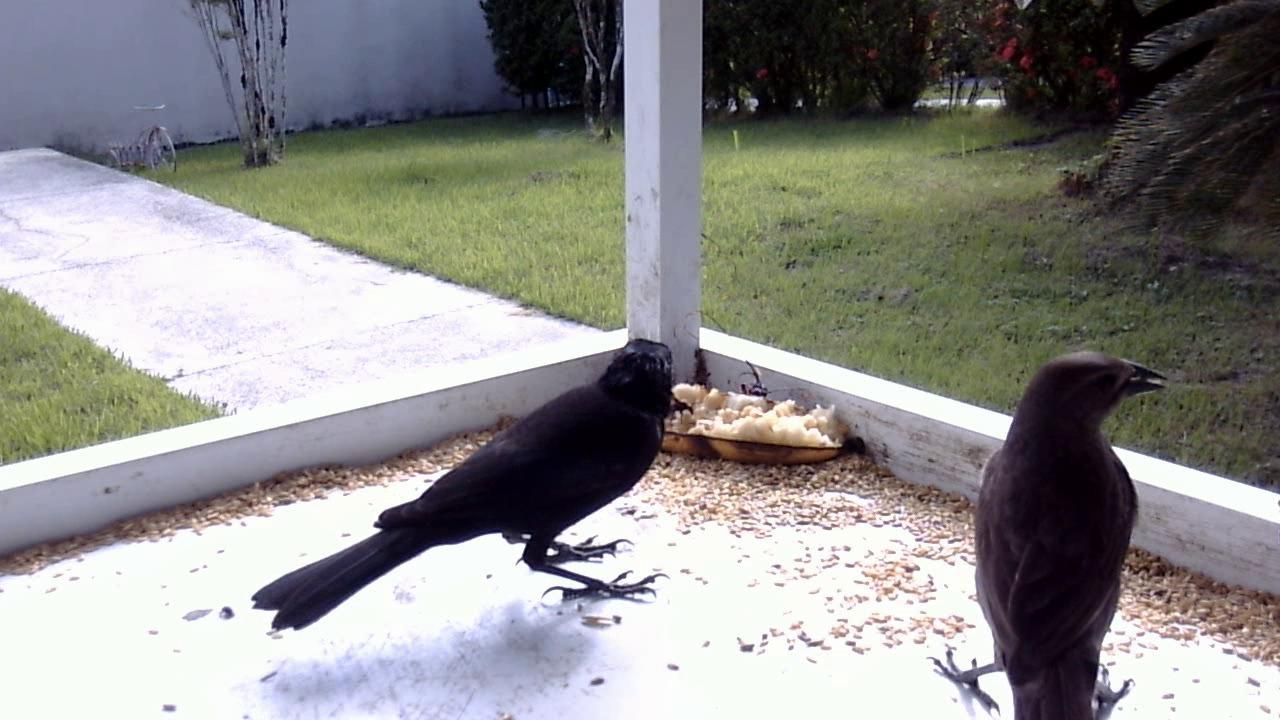chupim: (250, 337, 696, 644), (915, 334, 1177, 716)
